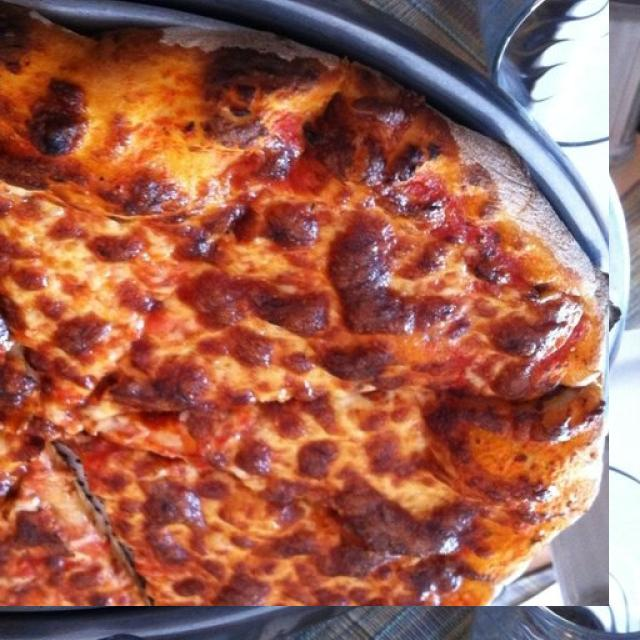pizza: (0, 0, 609, 606)
